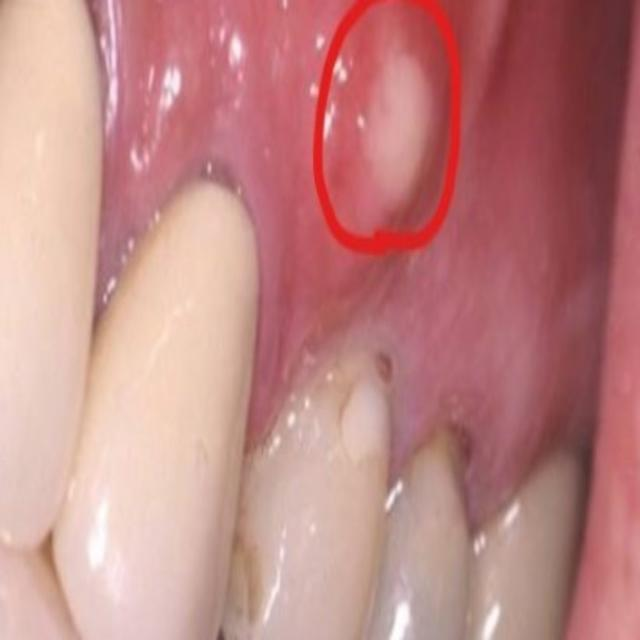abscess: (311, 14, 484, 242)
